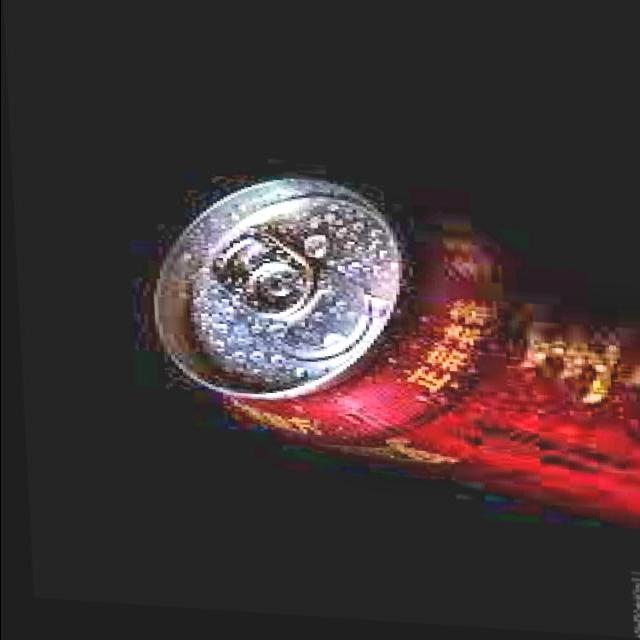Aluminum Can: (126, 166, 640, 534)
